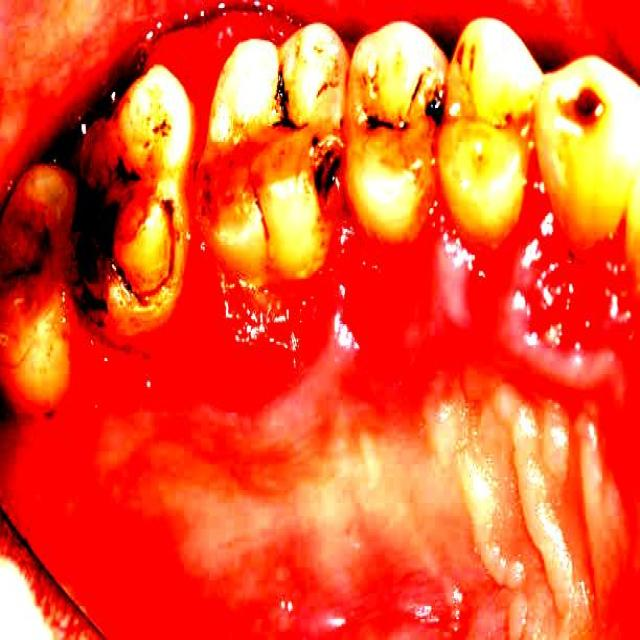caries: (66, 133, 172, 324), (0, 187, 62, 313), (240, 58, 305, 140), (354, 89, 414, 157), (302, 127, 350, 210), (557, 73, 608, 139), (452, 30, 496, 99), (407, 62, 445, 124)
